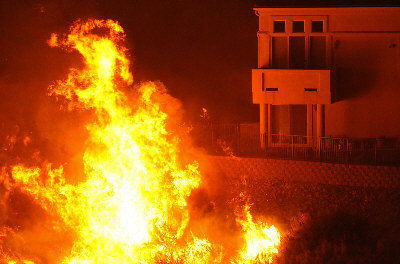fire: (48, 19, 192, 263), (233, 222, 281, 264), (6, 160, 47, 204)
